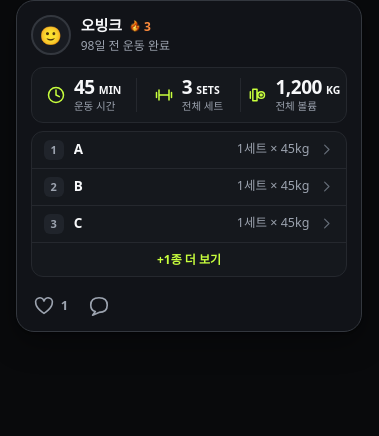
Test: FeedItemCard — 기록 상세 펼치기 › 4종 이상이면 3개만 보이고 나머지는 `+N종 더 보기`
The width and height of the screenshot is (379, 436).
Expected: the list item "+1종 더 보기" is shown, [157, 250, 221, 268]
Expected: the text "D" is not shown
Click the button with aria-label "운동 상세".
click(189, 204)  # box [31, 130, 347, 277]
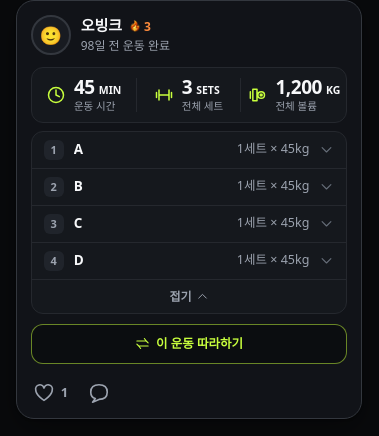
Expected: the text "D" is shown, [74, 251, 84, 269]
